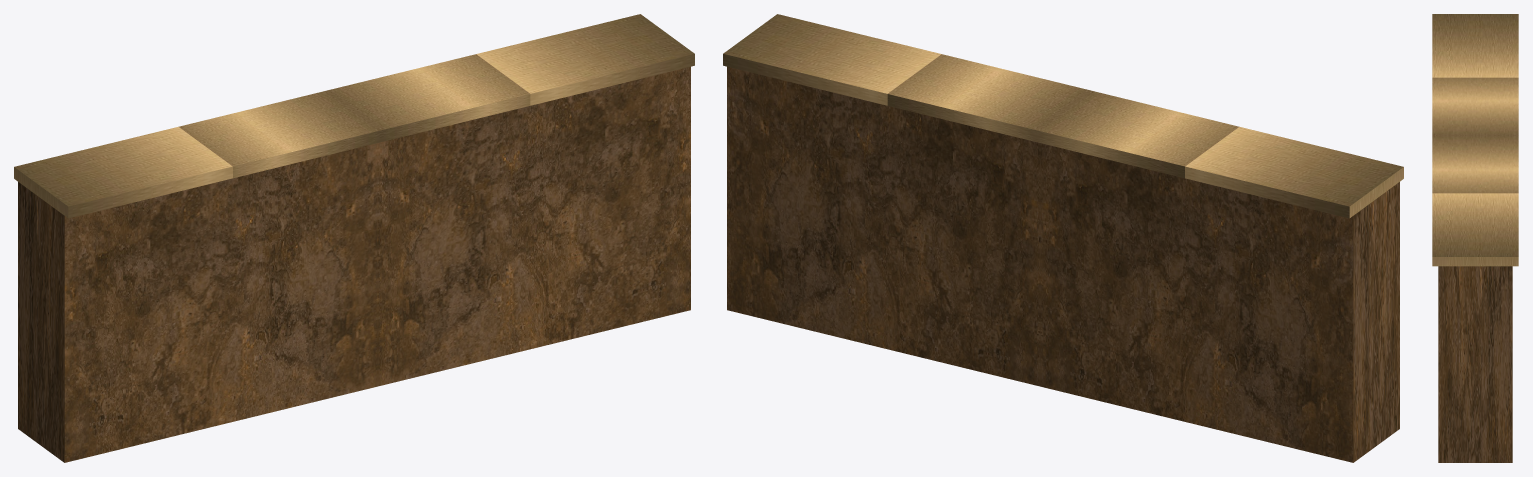
Rendered from hubfrontgatewall.gltf.
3 renders of one model, left to right at view 1: azimuth 30°, elevation 25°; view 2: azimuth 150°, elevation 25°; view 3: azimuth 270°, elevation 25°, orthographic. The views are drawn at different scales.
Visible parts, largest first — view 1: Cube; view 2: Cube; view 3: Cube.
Boxes of the visible parts, x1,y1,x2,y2 form: Cube: (14, 14, 694, 462); Cube: (723, 14, 1403, 462); Cube: (1432, 14, 1518, 462).
Size of the model in its own units: 15.51 by 6.13 by 2.33.
1 material, 1 textured.
